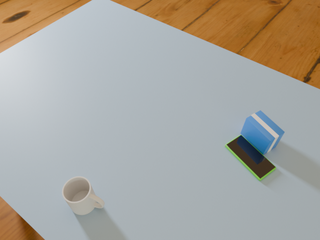box: (241, 111, 285, 155)
cup: (62, 177, 105, 215)
phone: (225, 135, 276, 181)
